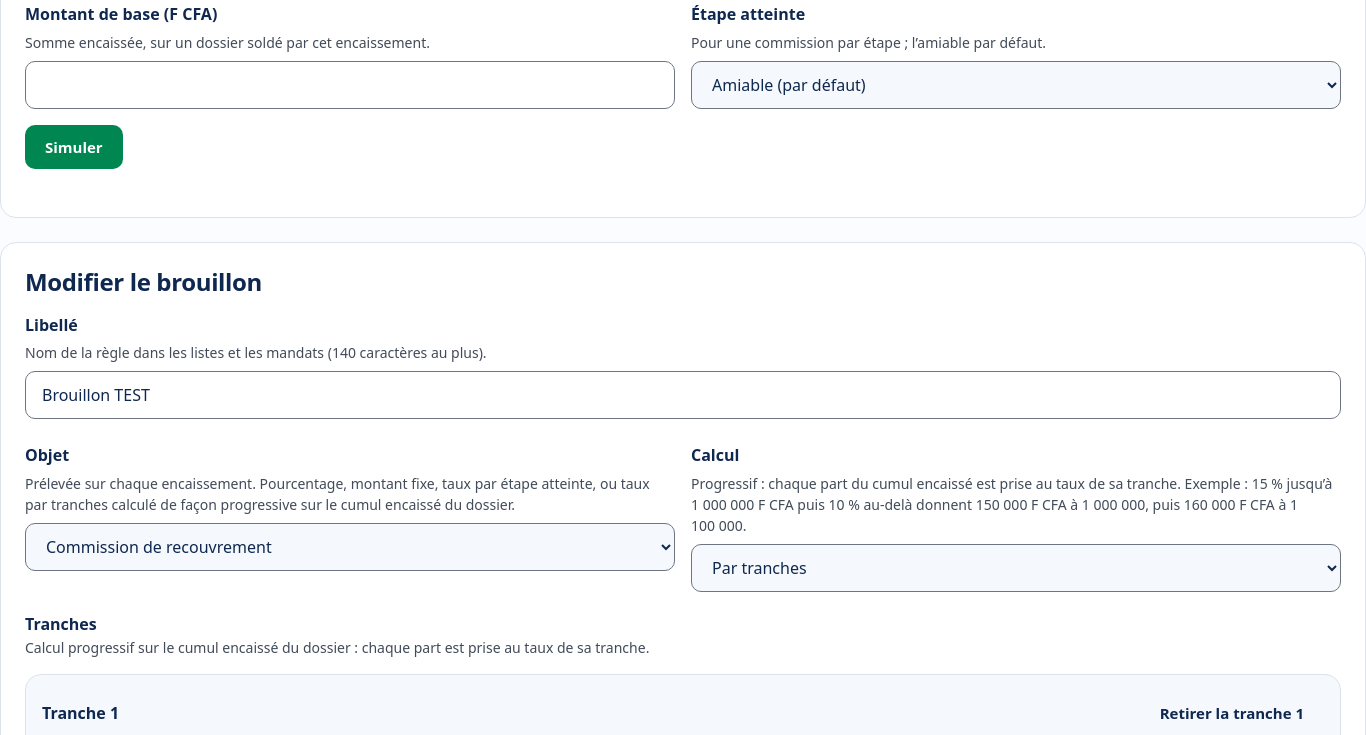
Test: cycle d’une règle › brouillon modifié : corps complet du contrat, sans clé, message de réussite
(page scrolled)
Replace the text in the field labelled "Libellé" with "Commission révisée" at x=683, y=395, box [25, 371, 1341, 419]
(page scrolled)
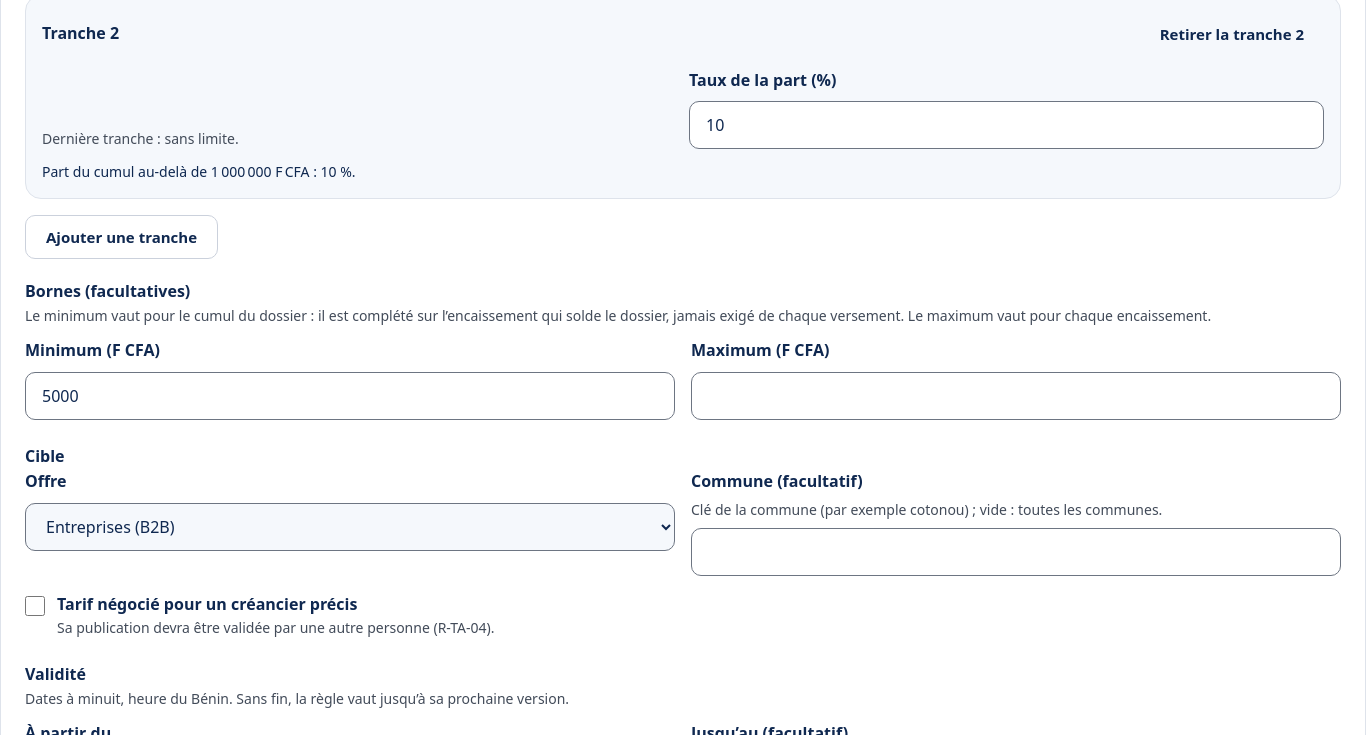
Type "1000" into the field labelled "Maximum (F CFA)".
click(1016, 396); type("1000")  # box [691, 372, 1341, 420]
(page scrolled)
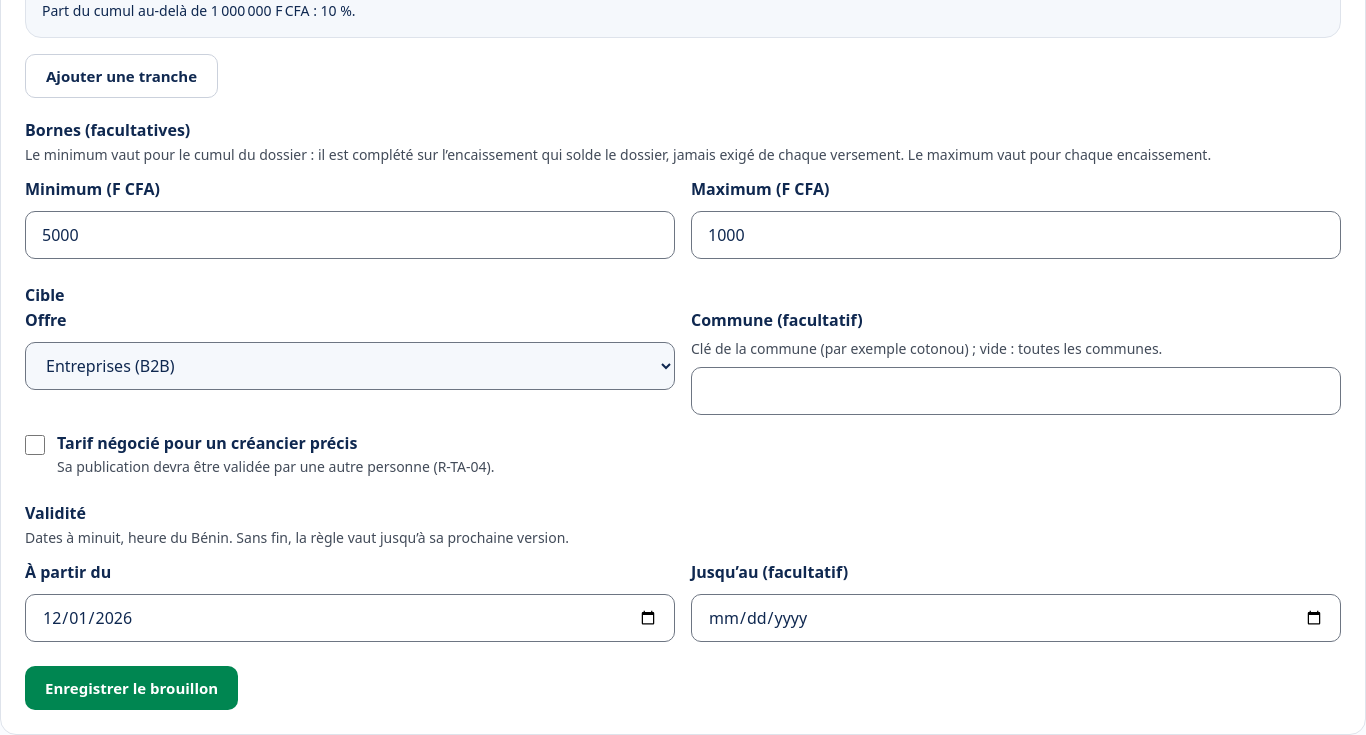
Click the button "Enregistrer le brouillon".
click(132, 688)  # box [25, 666, 238, 710]
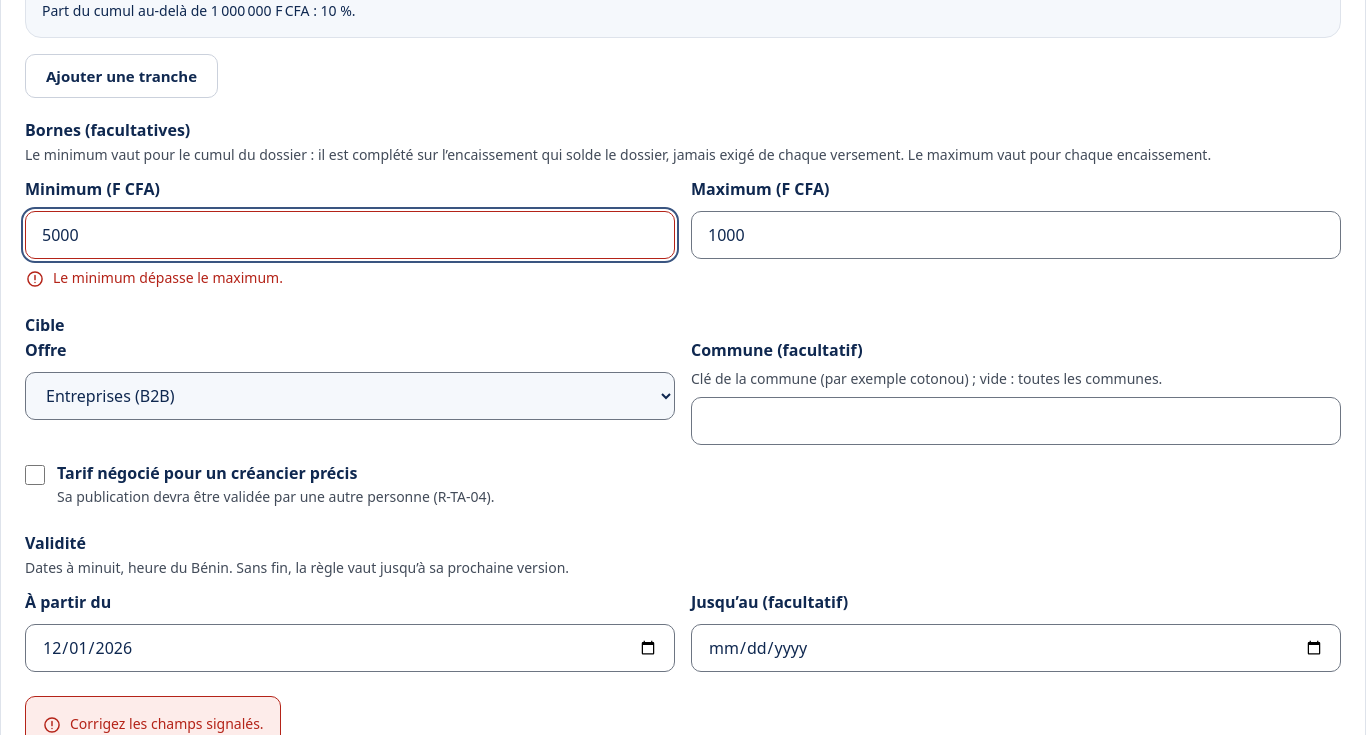
Now the text "Corrigez les champs signalés." is shown, box [70, 713, 264, 734]
Now the text "Le minimum dépasse le maximum." is shown, box [53, 267, 283, 288]
Clear the field labelled "Maximum (F CFA)" at x=1016, y=235, box [691, 211, 1341, 259]
(page scrolled)
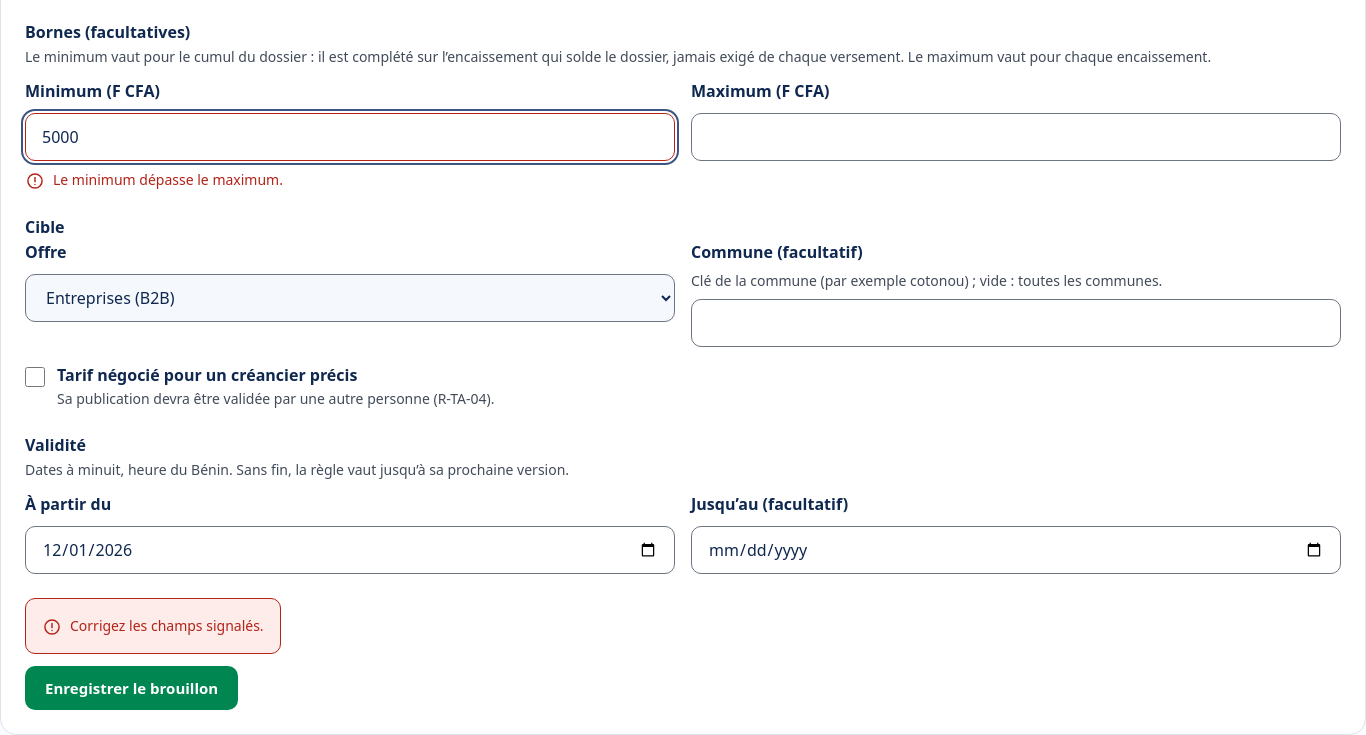
Click the button "Enregistrer le brouillon".
click(132, 688)  # box [25, 666, 238, 710]
(page scrolled)
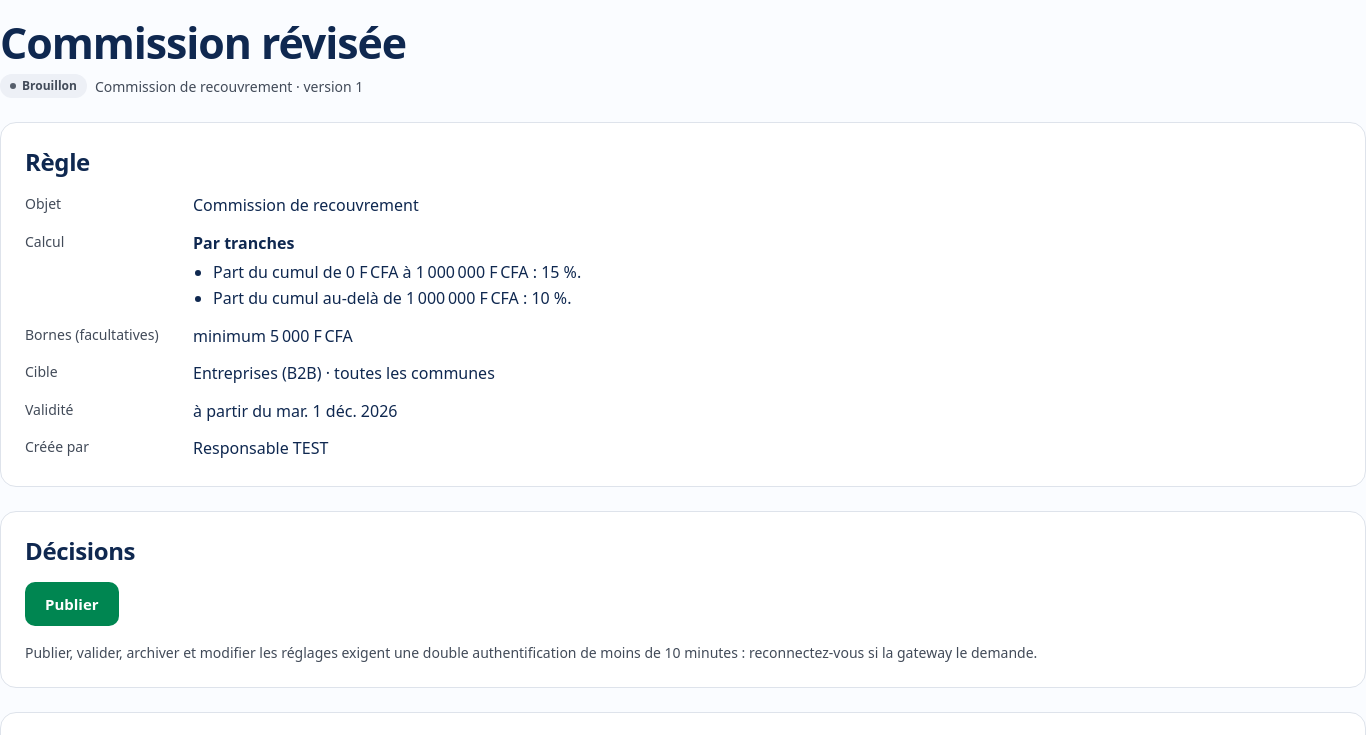
Now the heading "Commission révisée" is shown, box [0, 13, 406, 72]
